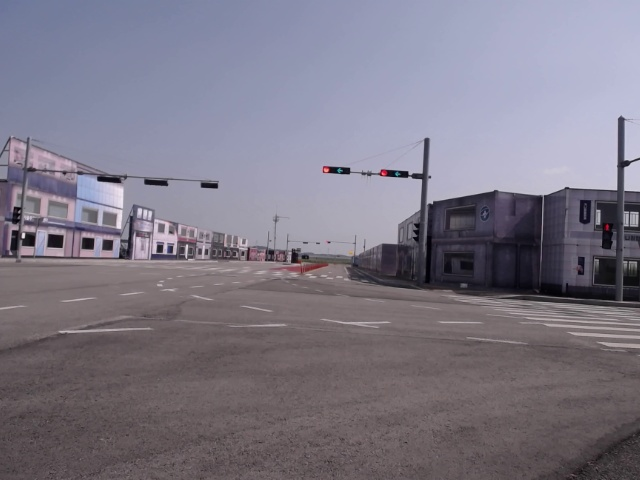left_green_4: (323, 166, 350, 174), (382, 170, 407, 178)
